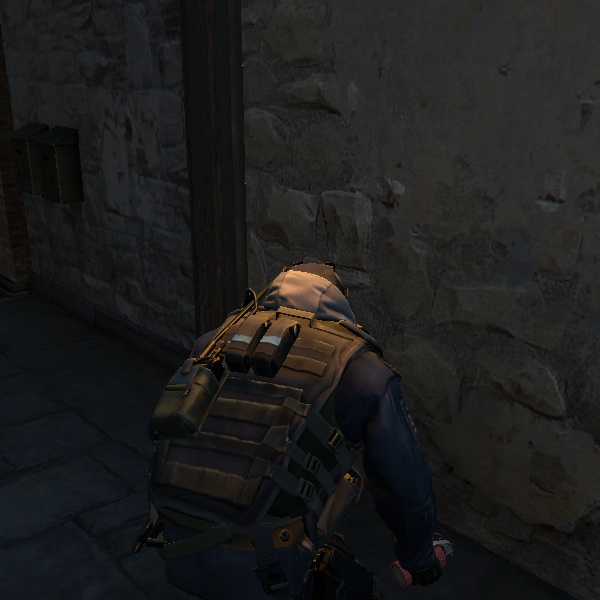t_body: (142, 252, 482, 589)
t_head: (251, 252, 365, 349)
